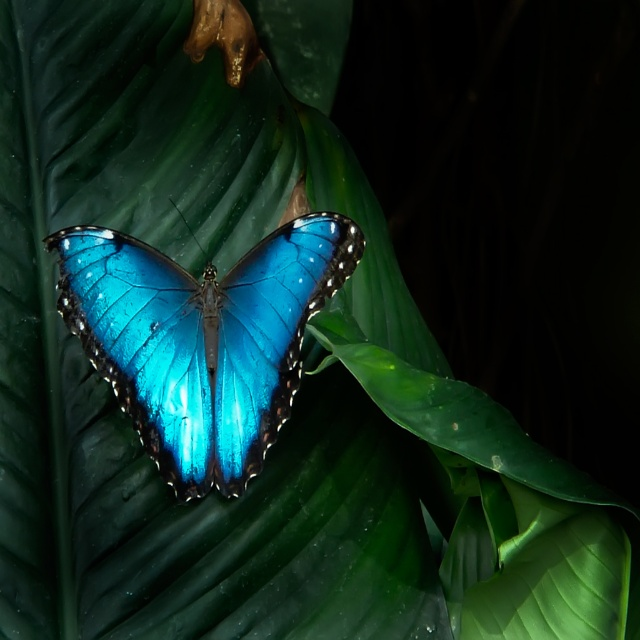Butterfly: (41, 193, 365, 500)
